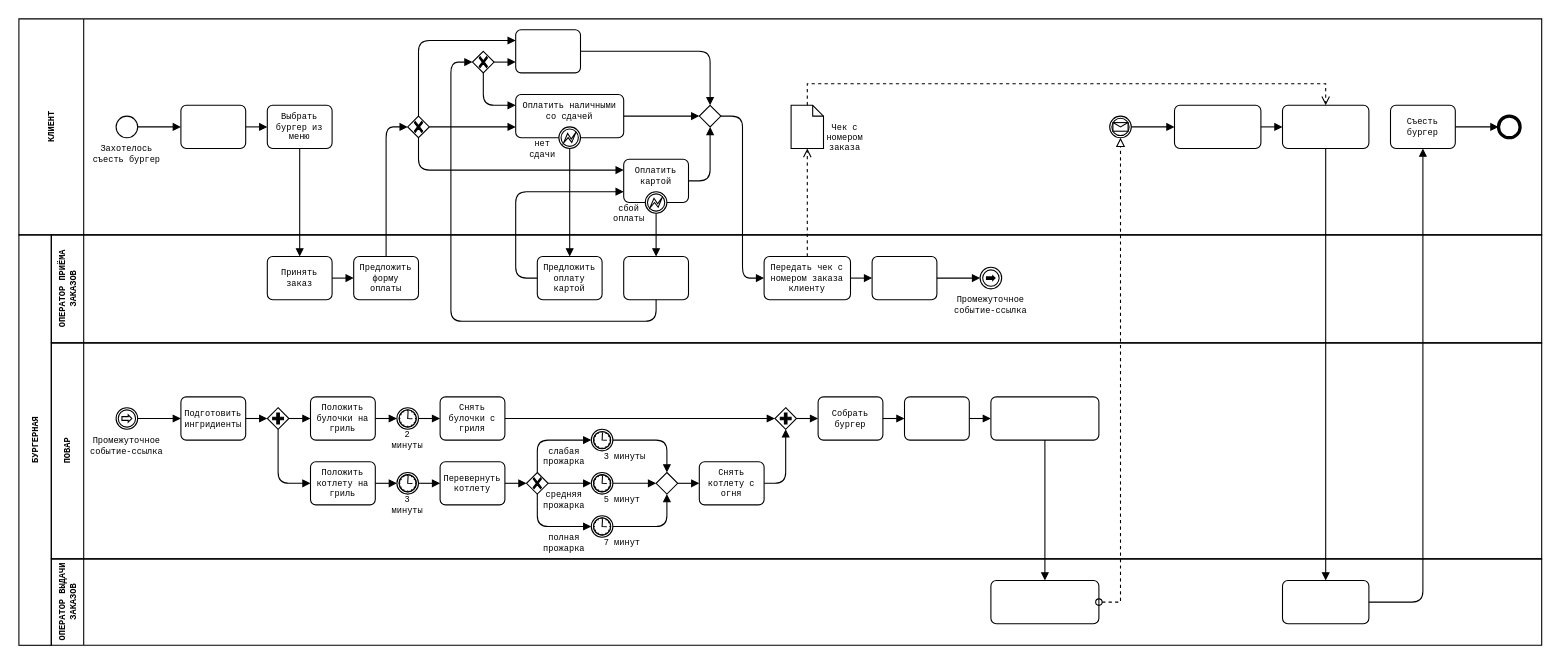
The diagram is 1561 pixels wide and 664 high, and some of its shapes have lost their labels. Each missing label, with the centre of its shape:
Выдать соответствующий заказ: the point at 1325,601
Оплатить наличными без сдачи: the point at 547,51
Передать бургер оператору выдачи заказов: the point at 1044,418
Передать заказ повару: the point at 904,277
Подойти к стойке выдачи заказов: the point at 1217,126
Положить бургер на поднос: the point at 936,418
Предложить оплату наличными: the point at 655,277
Предъявить чек с номером заказа: the point at 1325,126
Прийти в ресторан: the point at 213,126
Уведомить клиента, что заказ готов: the point at 1044,601
